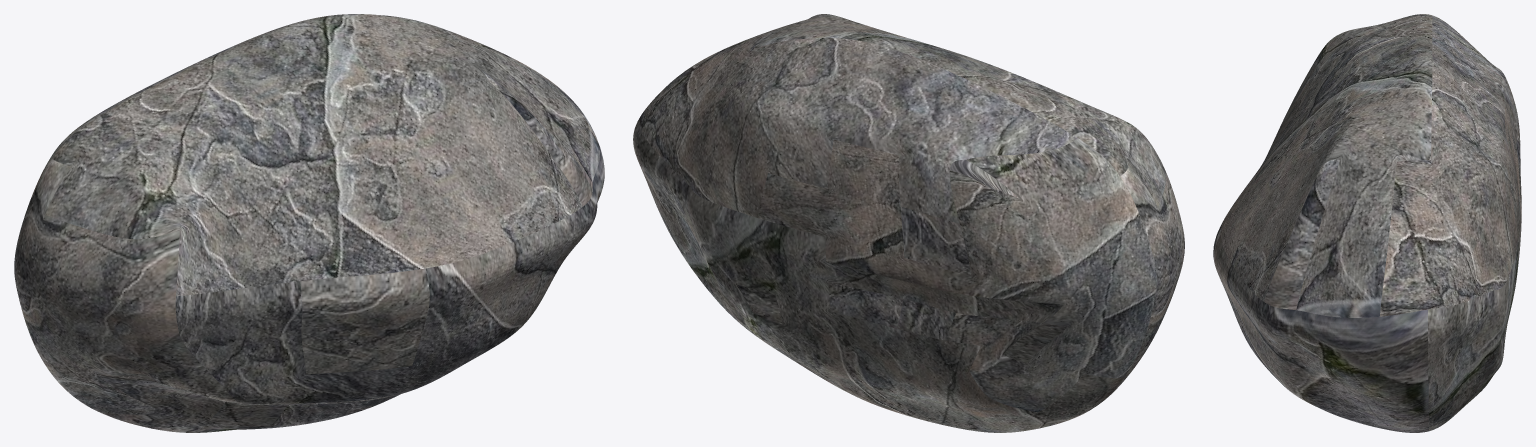
File: rock4.obj
3 views of the same model, side by side, from view 1: azimuth 30°, elevation 25°; view 2: azimuth 150°, elevation 25°; view 3: azimuth 270°, elevation 25° (orthographic). The views are drawn at different scales.
Parts seen in each view (by area): view 1: Rock.Landscape.Style_1_Rock.Landscape.Style_1.Mesh; view 2: Rock.Landscape.Style_1_Rock.Landscape.Style_1.Mesh; view 3: Rock.Landscape.Style_1_Rock.Landscape.Style_1.Mesh.
Boxes of the visible parts, x1=… form: Rock.Landscape.Style_1_Rock.Landscape.Style_1.Mesh: x1=14, y1=14, x2=604, y2=432; Rock.Landscape.Style_1_Rock.Landscape.Style_1.Mesh: x1=633, y1=14, x2=1184, y2=432; Rock.Landscape.Style_1_Rock.Landscape.Style_1.Mesh: x1=1213, y1=14, x2=1521, y2=432.
Bounding box in the file's own units: 4.01 × 2.65 × 2.1.
Materials: 1 (1 with a texture image).
